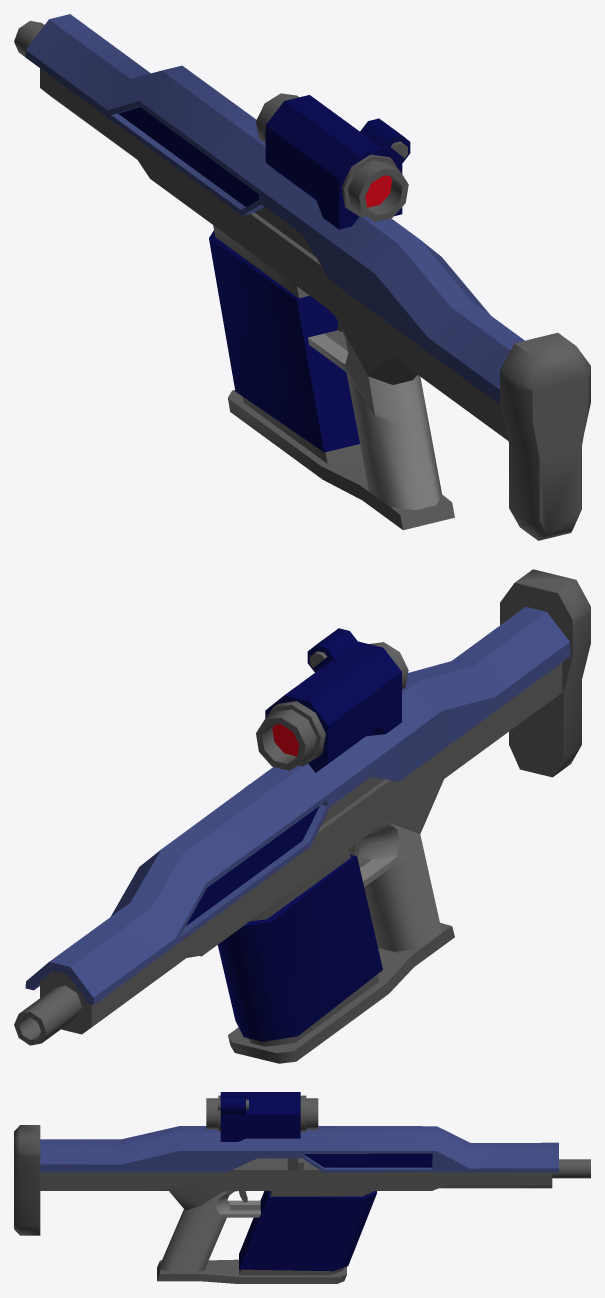
File: krisslaser.glb
The picture shows the model from 3 angles, top to bottom: view 1: azimuth 30°, elevation 25°; view 2: azimuth 150°, elevation 25°; view 3: azimuth 270°, elevation 25°; orthographic projection. The views are drawn at different scales.
Visible parts, largest first — view 1: Cube; view 2: Cube; view 3: Cube.
Part boxes in pixels (x1,y1,x2,y2): Cube: [14, 14, 590, 540]; Cube: [14, 569, 590, 1063]; Cube: [14, 1092, 590, 1283].
Size of the model in its own units: 1.04 by 3.93 by 11.14.
